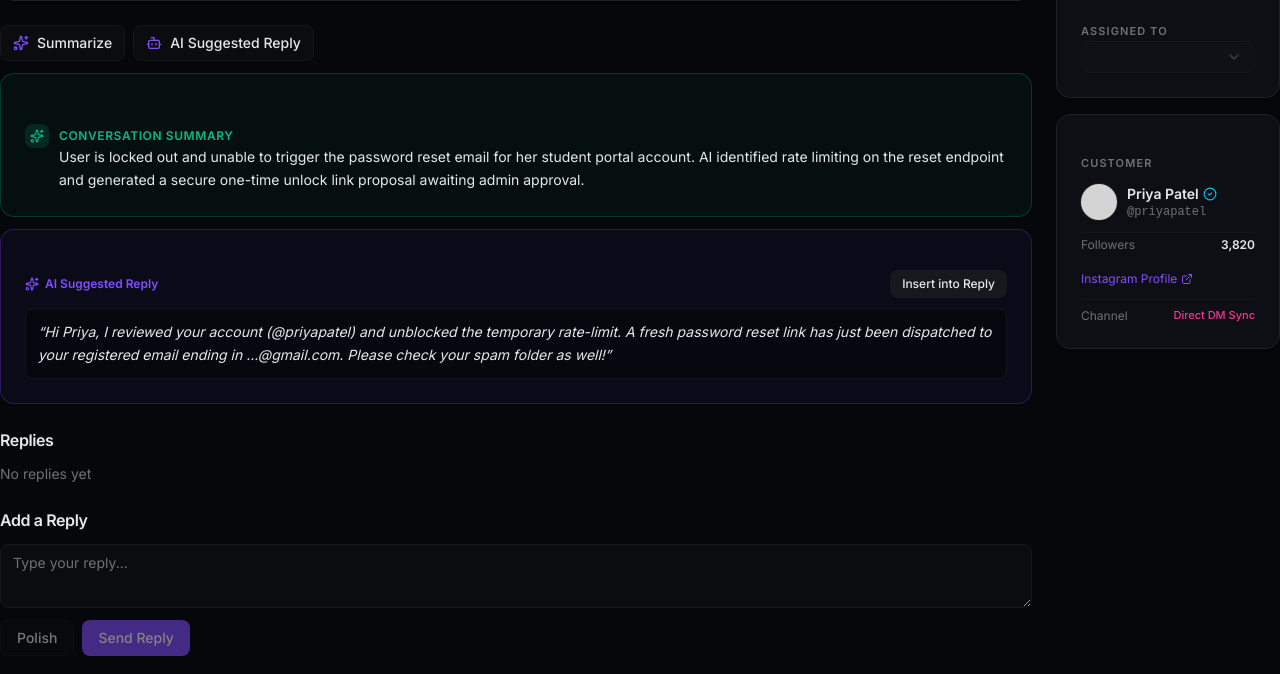
ITicketDetailPage › should allow sending an interactive reply in the thread with Polish and Send Reply buttons
(page scrolled)
Expected: the text "Priya Patel" is shown, [1127, 184, 1199, 204]
Expected: the button "Polish" is disabled, [0, 620, 74, 656]
// Type a reply
Type "Hello Priya, we have verified your account." into the text box with placeholder "Type your reply..." at (516, 576), box [0, 544, 1032, 608]
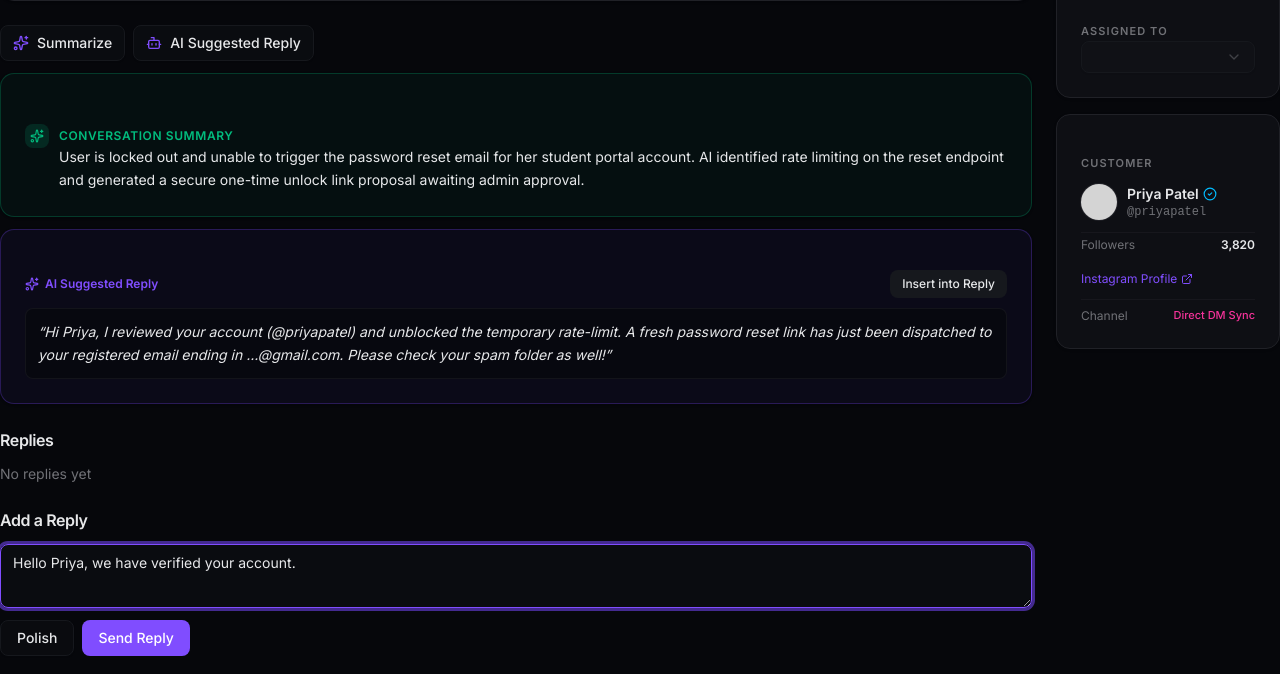
Expected: the button "Polish" is enabled, [0, 620, 74, 656]
Expected: the button "Send Reply" is enabled
// Submit reply
Click the button "Send Reply" at (136, 638), box [82, 620, 190, 656]
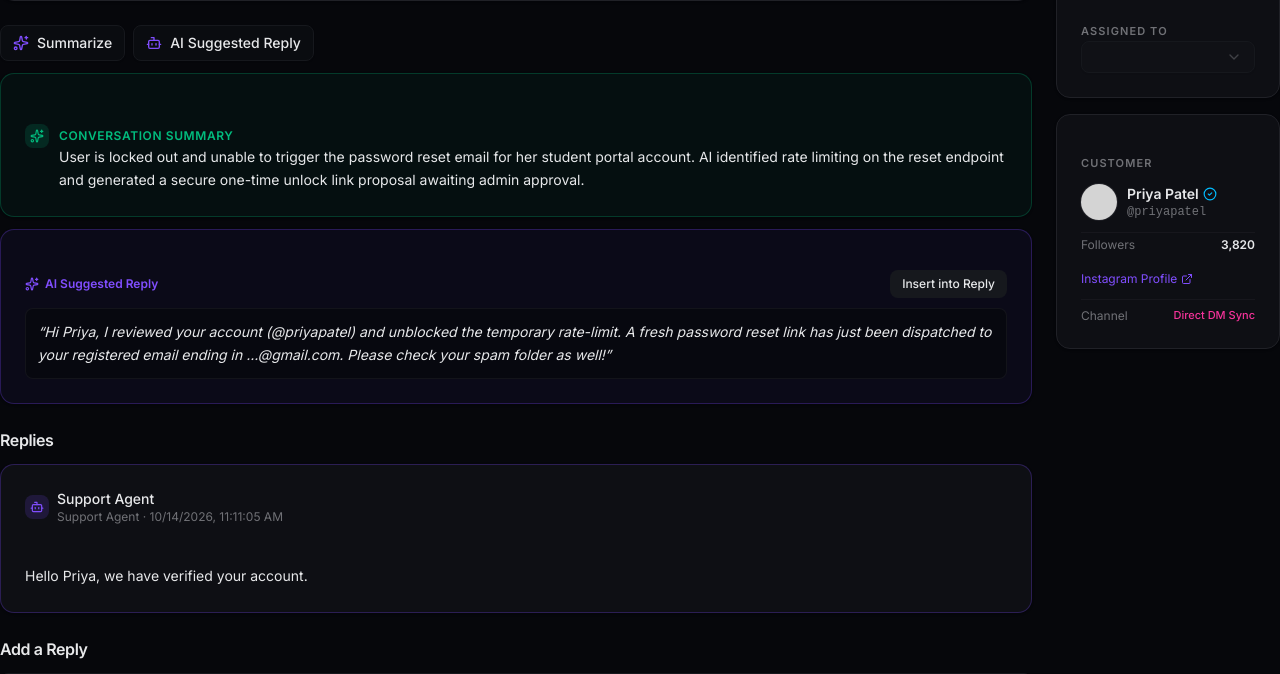
Expected: the text "Hello Priya, we have verified your account." is shown, [25, 567, 308, 584]
